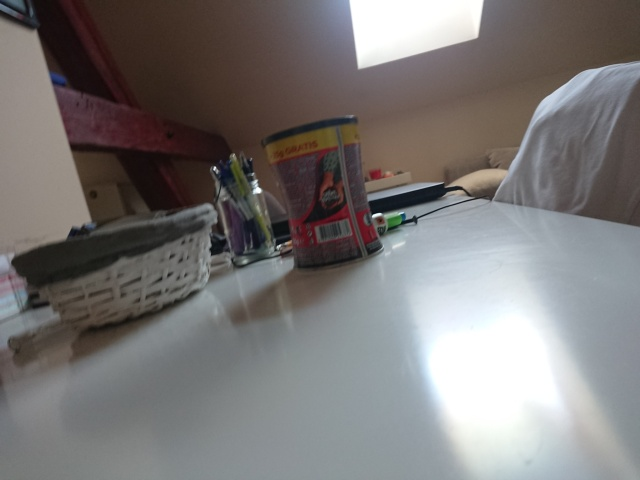Nescafe Classic 225g: (258, 112, 387, 274)
